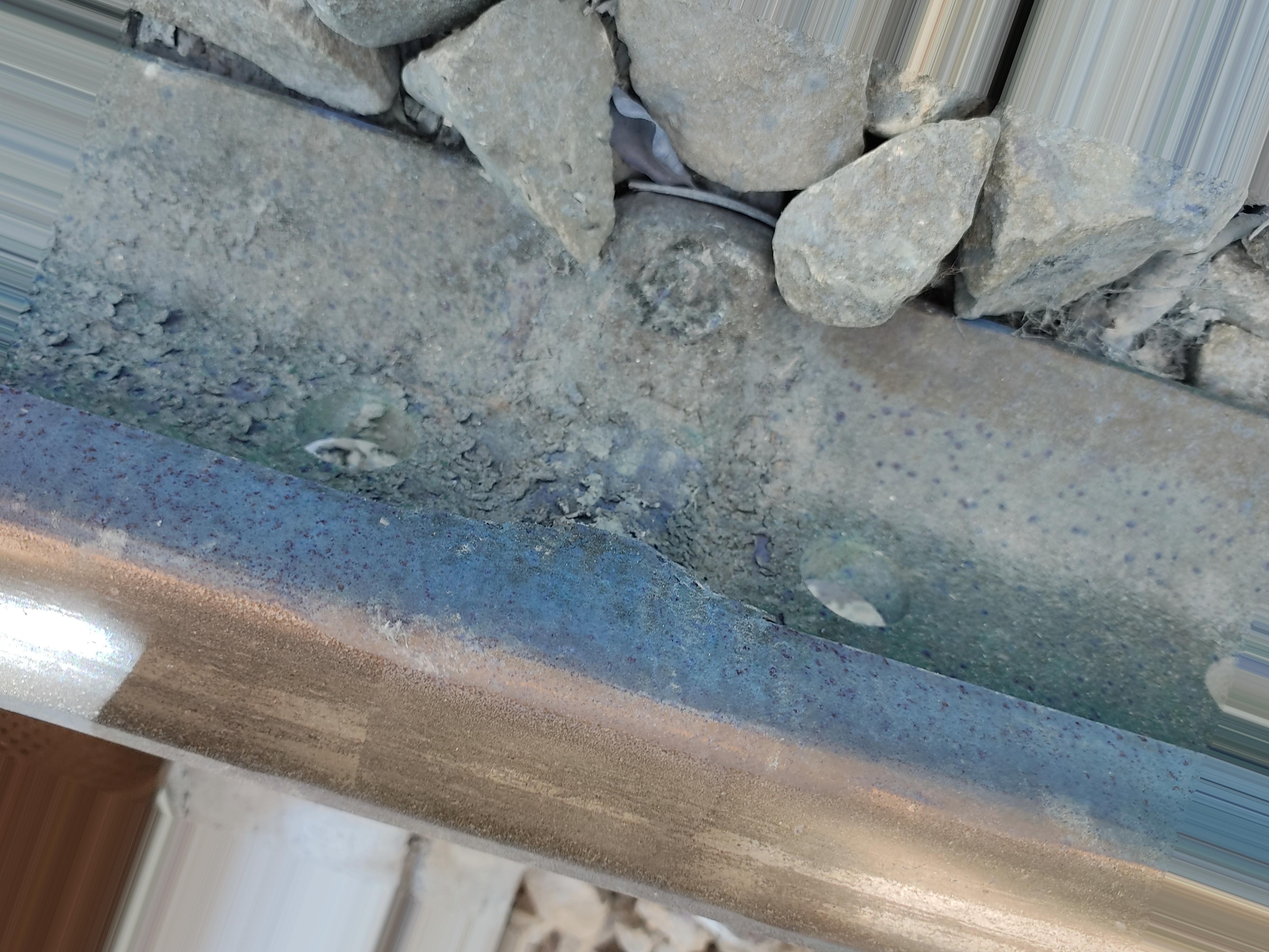tracks_fault: (476, 130, 797, 712)
